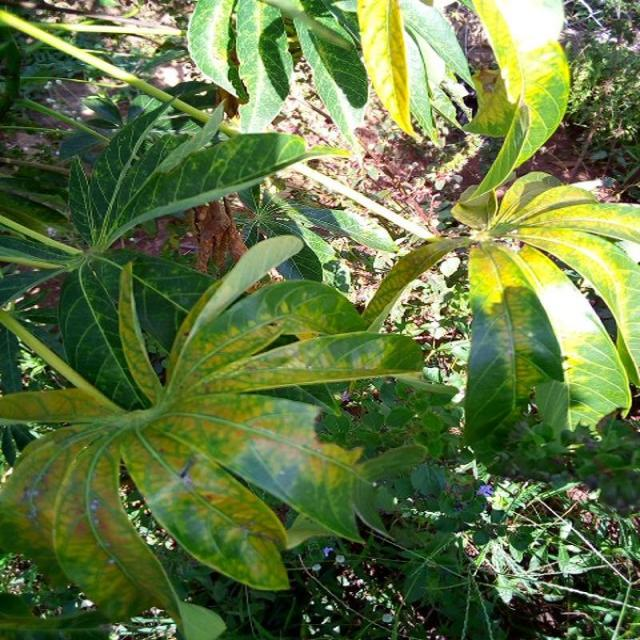cassava leaf: (0, 234, 432, 636), (462, 237, 632, 455)
